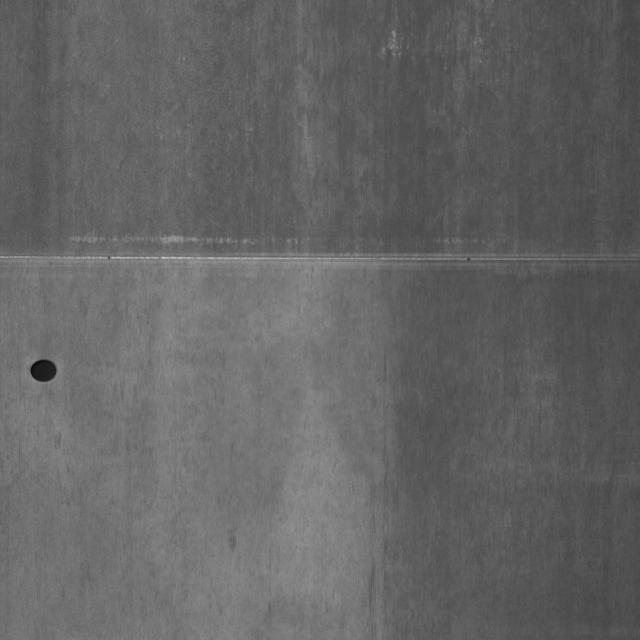crease: (4, 239, 640, 288)
crescent_gap: (26, 348, 72, 389)
